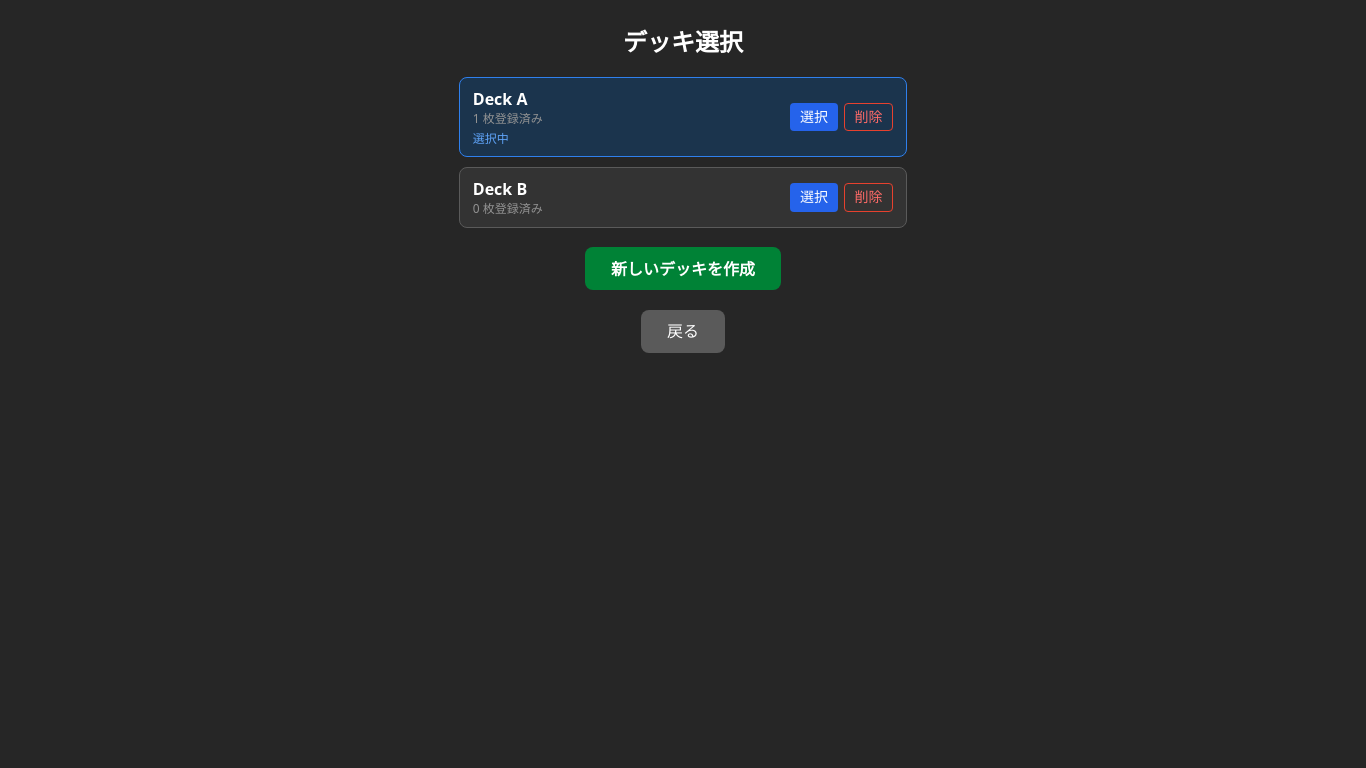
Test: DeckChoose › 「新しいデッキを作成」ボタンでモーダルが表示される
Click the button "新しいデッキを作成". click: [683, 269]
box: [585,247,781,290]
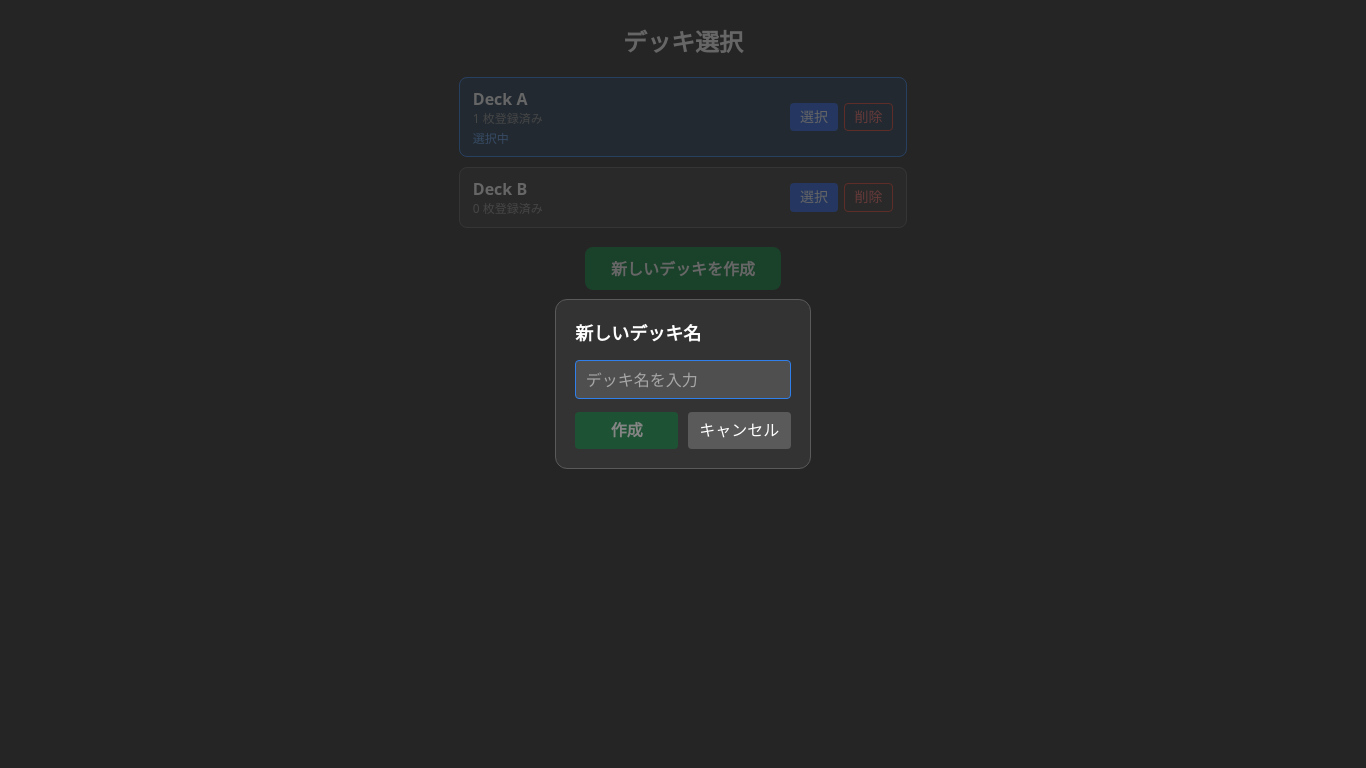
Now the heading "新しいデッキ名" is shown, box [575,321,701,345]
